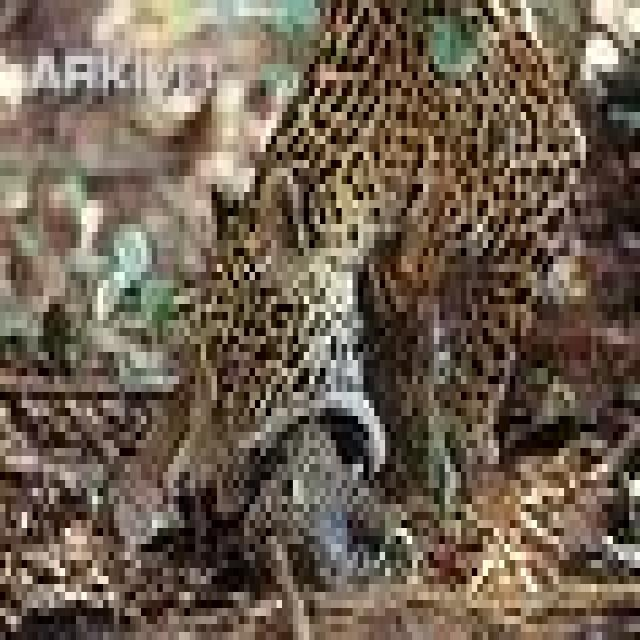Leopard: (124, 0, 596, 592)
